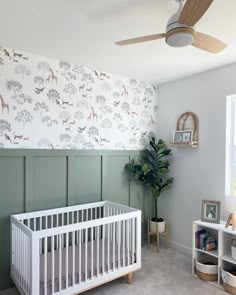crib: (11, 201, 140, 294)
